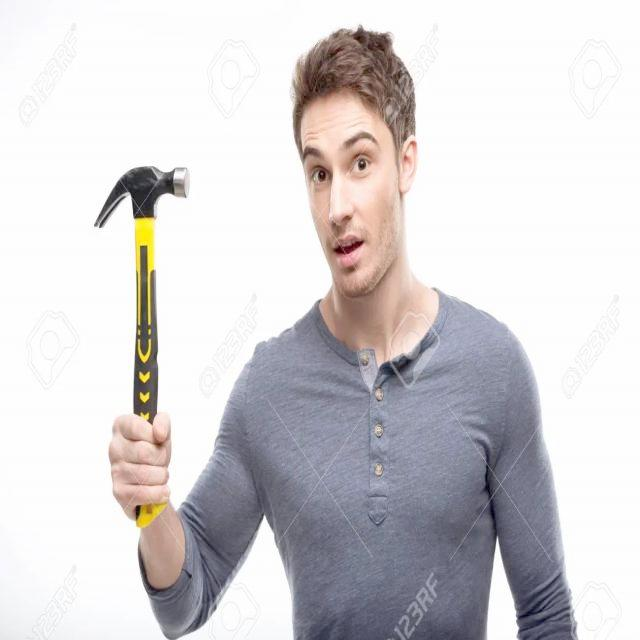hammer: (86, 146, 196, 534)
